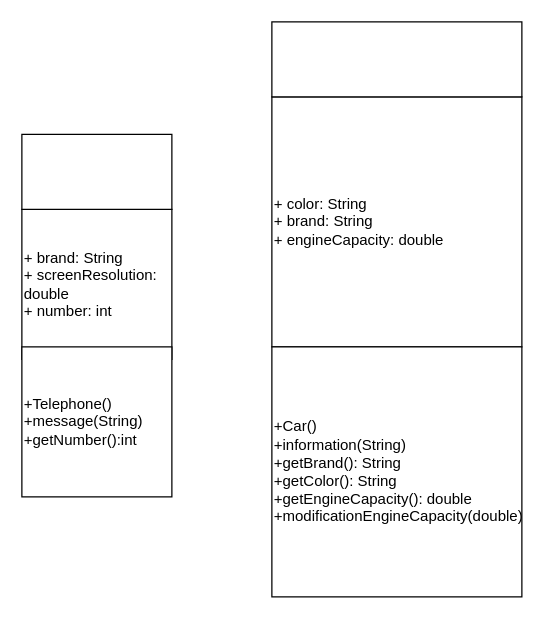
Image size: 545x619. Some labels were removed from this diagram. Here are the shapes that lost their labels. From the top down, the centre of each, then its label:
At point 396,59: "Car".
At point 96,171: "Telephone".
